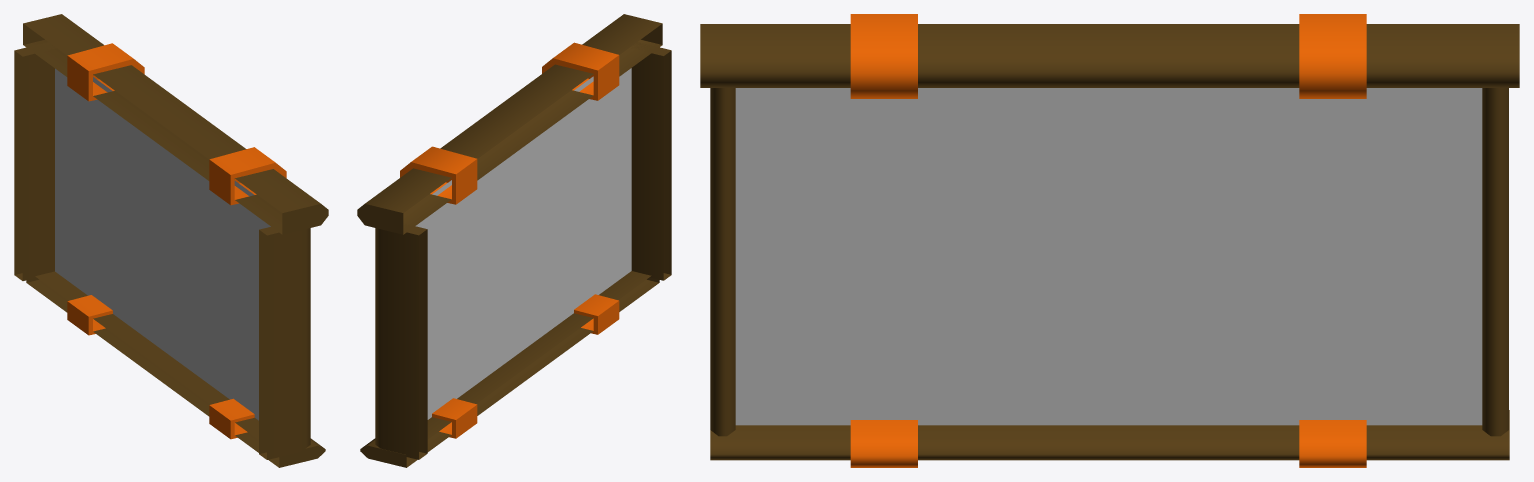
File: Board_Cork.fbx
3 views of the same model, side by side, from view 1: azimuth 30°, elevation 25°; view 2: azimuth 150°, elevation 25°; view 3: azimuth 270°, elevation 25° (orthographic). The views are drawn at different scales.
Parts seen in each view (by area): view 1: Board.003; view 2: Board.003; view 3: Board.003.
Part boxes in pixels (box(x1,y1,x2,y2)): Board.003: box(14, 14, 328, 467); Board.003: box(357, 14, 671, 467); Board.003: box(700, 14, 1519, 467).
Size of the model in its own units: 0.5249 by 2.09 by 3.68.
